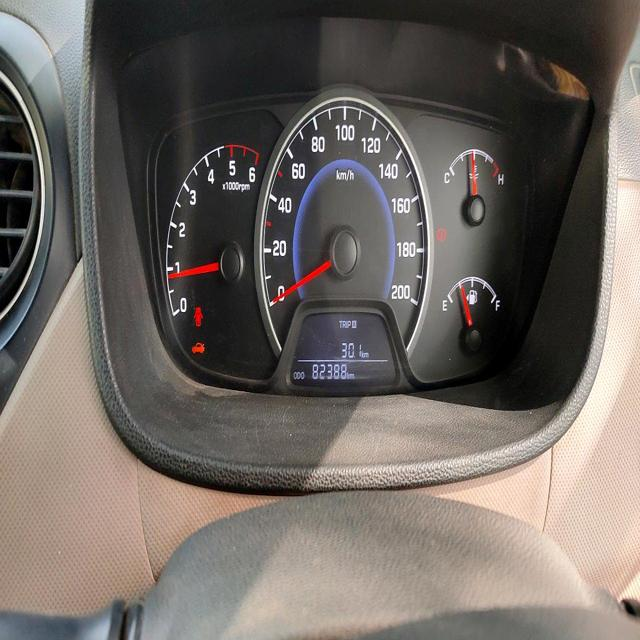odometer: (309, 358, 350, 383)
